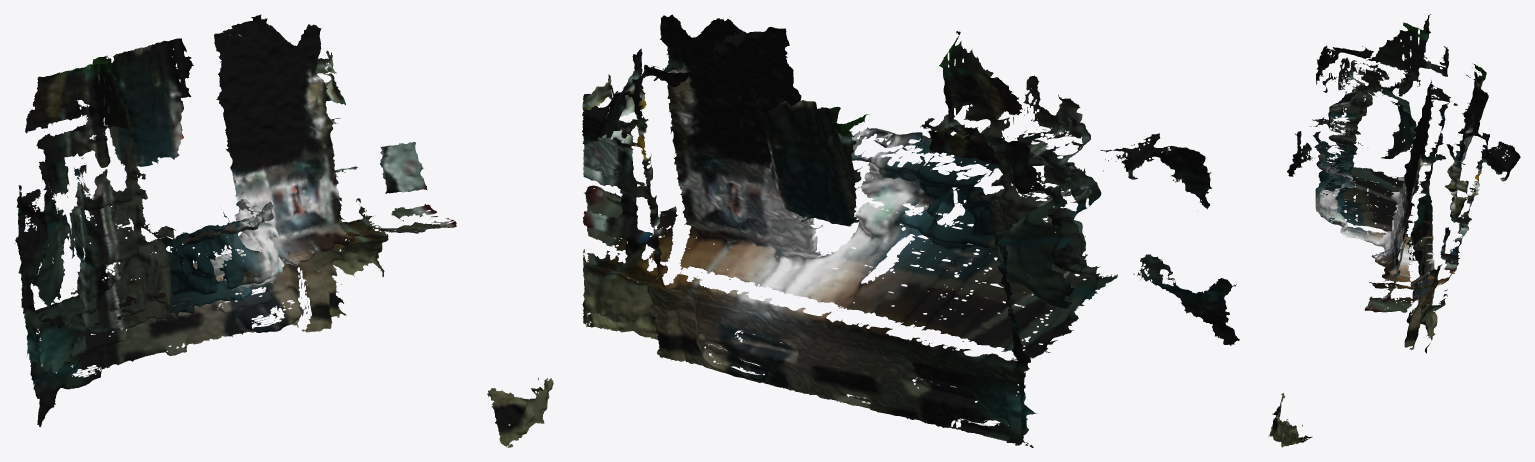
The model's file is color_model_f010_20251226_162905.obj.
The picture shows the model from 3 angles, left to right: view 1: azimuth 30°, elevation 25°; view 2: azimuth 150°, elevation 25°; view 3: azimuth 270°, elevation 25°; orthographic projection. The views are drawn at different scales.
Bounding box in the file's own units: 3.69 × 2.68 × 2.04.
